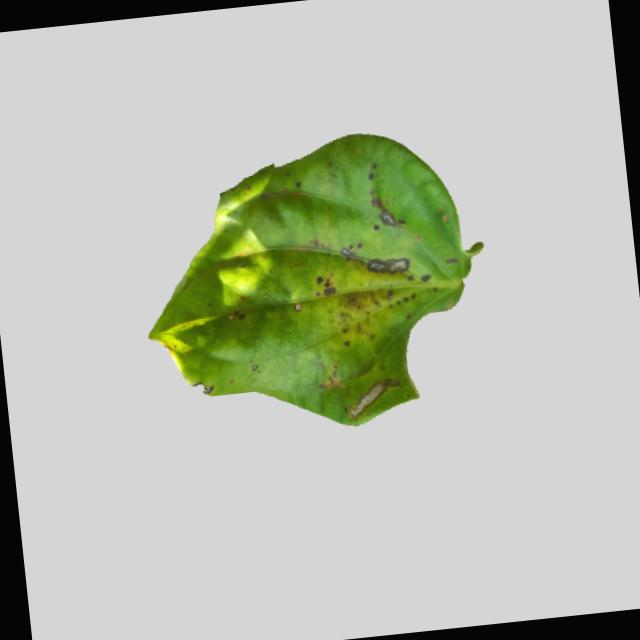yellow-mottle-virus: (110, 116, 512, 449)
